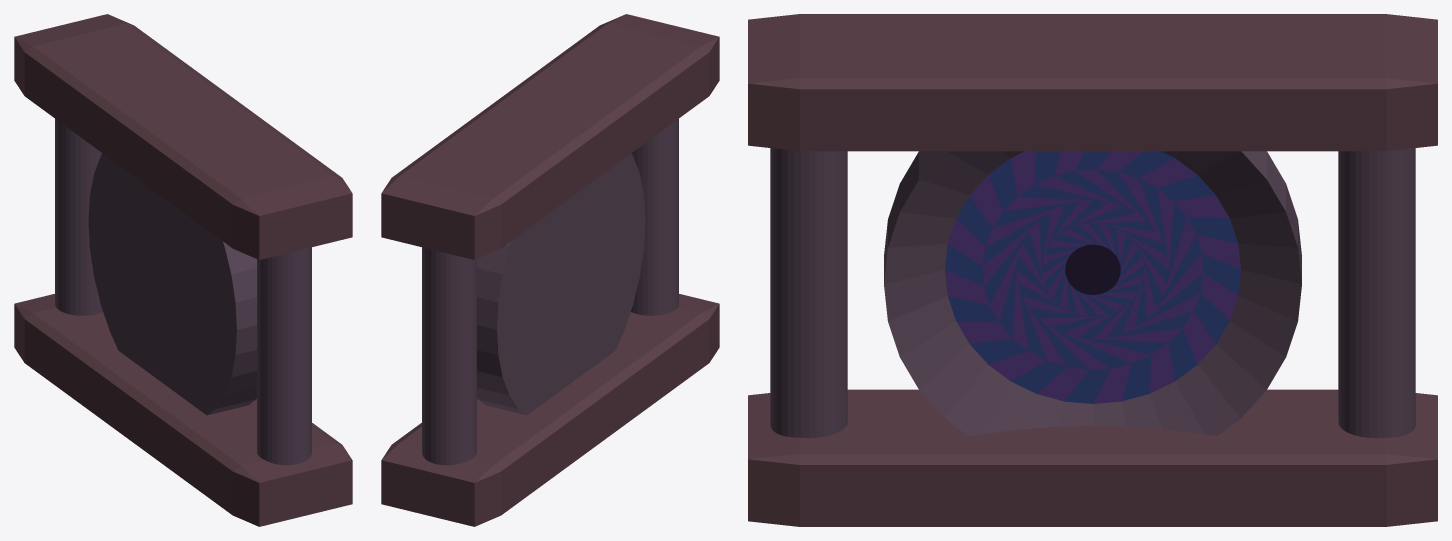
The model's file is Portal.fbx.
The picture shows the model from 3 angles, left to right: view 1: azimuth 30°, elevation 25°; view 2: azimuth 150°, elevation 25°; view 3: azimuth 270°, elevation 25°; orthographic projection. The views are drawn at different scales.
Parts seen in each view (by area): view 1: Opora, Cylinder, Cylinder.001; view 2: Opora, Cylinder, Cylinder.001; view 3: Opora, Cylinder, Cylinder.001.
Boxes of the visible parts, x1=… form: Opora: x1=14, y1=14, x2=352, y2=526; Cylinder: x1=88, y1=153, x2=256, y2=415; Cylinder.001: x1=55, y1=119, x2=311, y2=465; Opora: x1=381, y1=14, x2=719, y2=526; Cylinder: x1=477, y1=153, x2=645, y2=415; Cylinder.001: x1=422, y1=119, x2=678, y2=465; Opora: x1=748, y1=14, x2=1437, y2=526; Cylinder: x1=884, y1=151, x2=1301, y2=435; Cylinder.001: x1=770, y1=148, x2=1415, y2=438.
Bounding box in the file's own units: 85.22 × 237 × 330.
